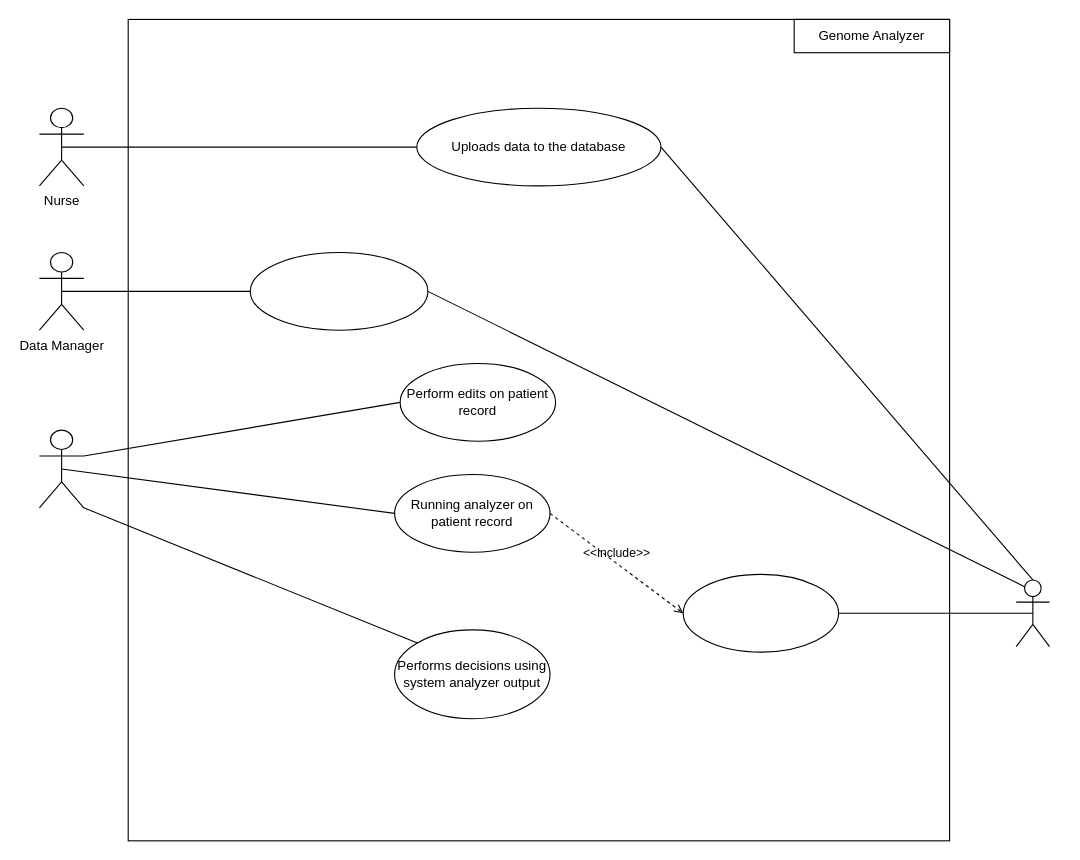
The diagram is 1080 pixels wide and 860 high, and some of its shapes have lost their labels. Here are the shapes that lost their labels. From the top down, the centre of each, then its label:
At pixel 338 290: "Perform quality and regular checks for data entry".
At pixel 61 468: "Doctor".
At pixel 760 612: "Compares data".
At pixel 1032 613: "Database".
